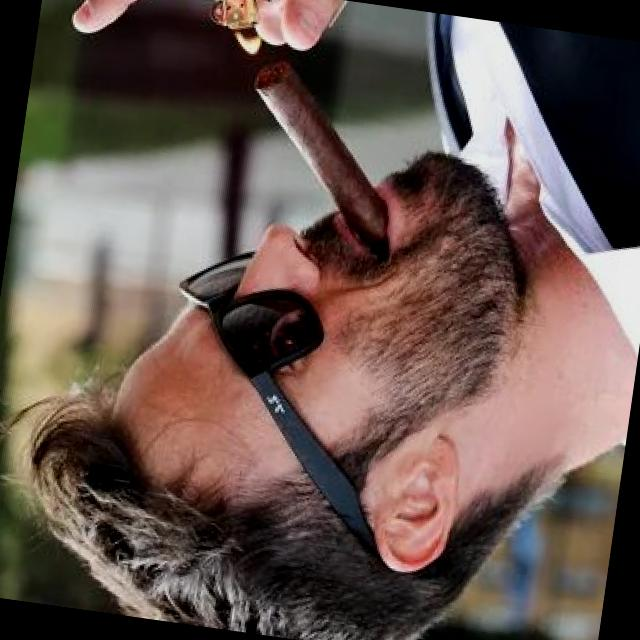cigarette: (232, 55, 413, 248)
